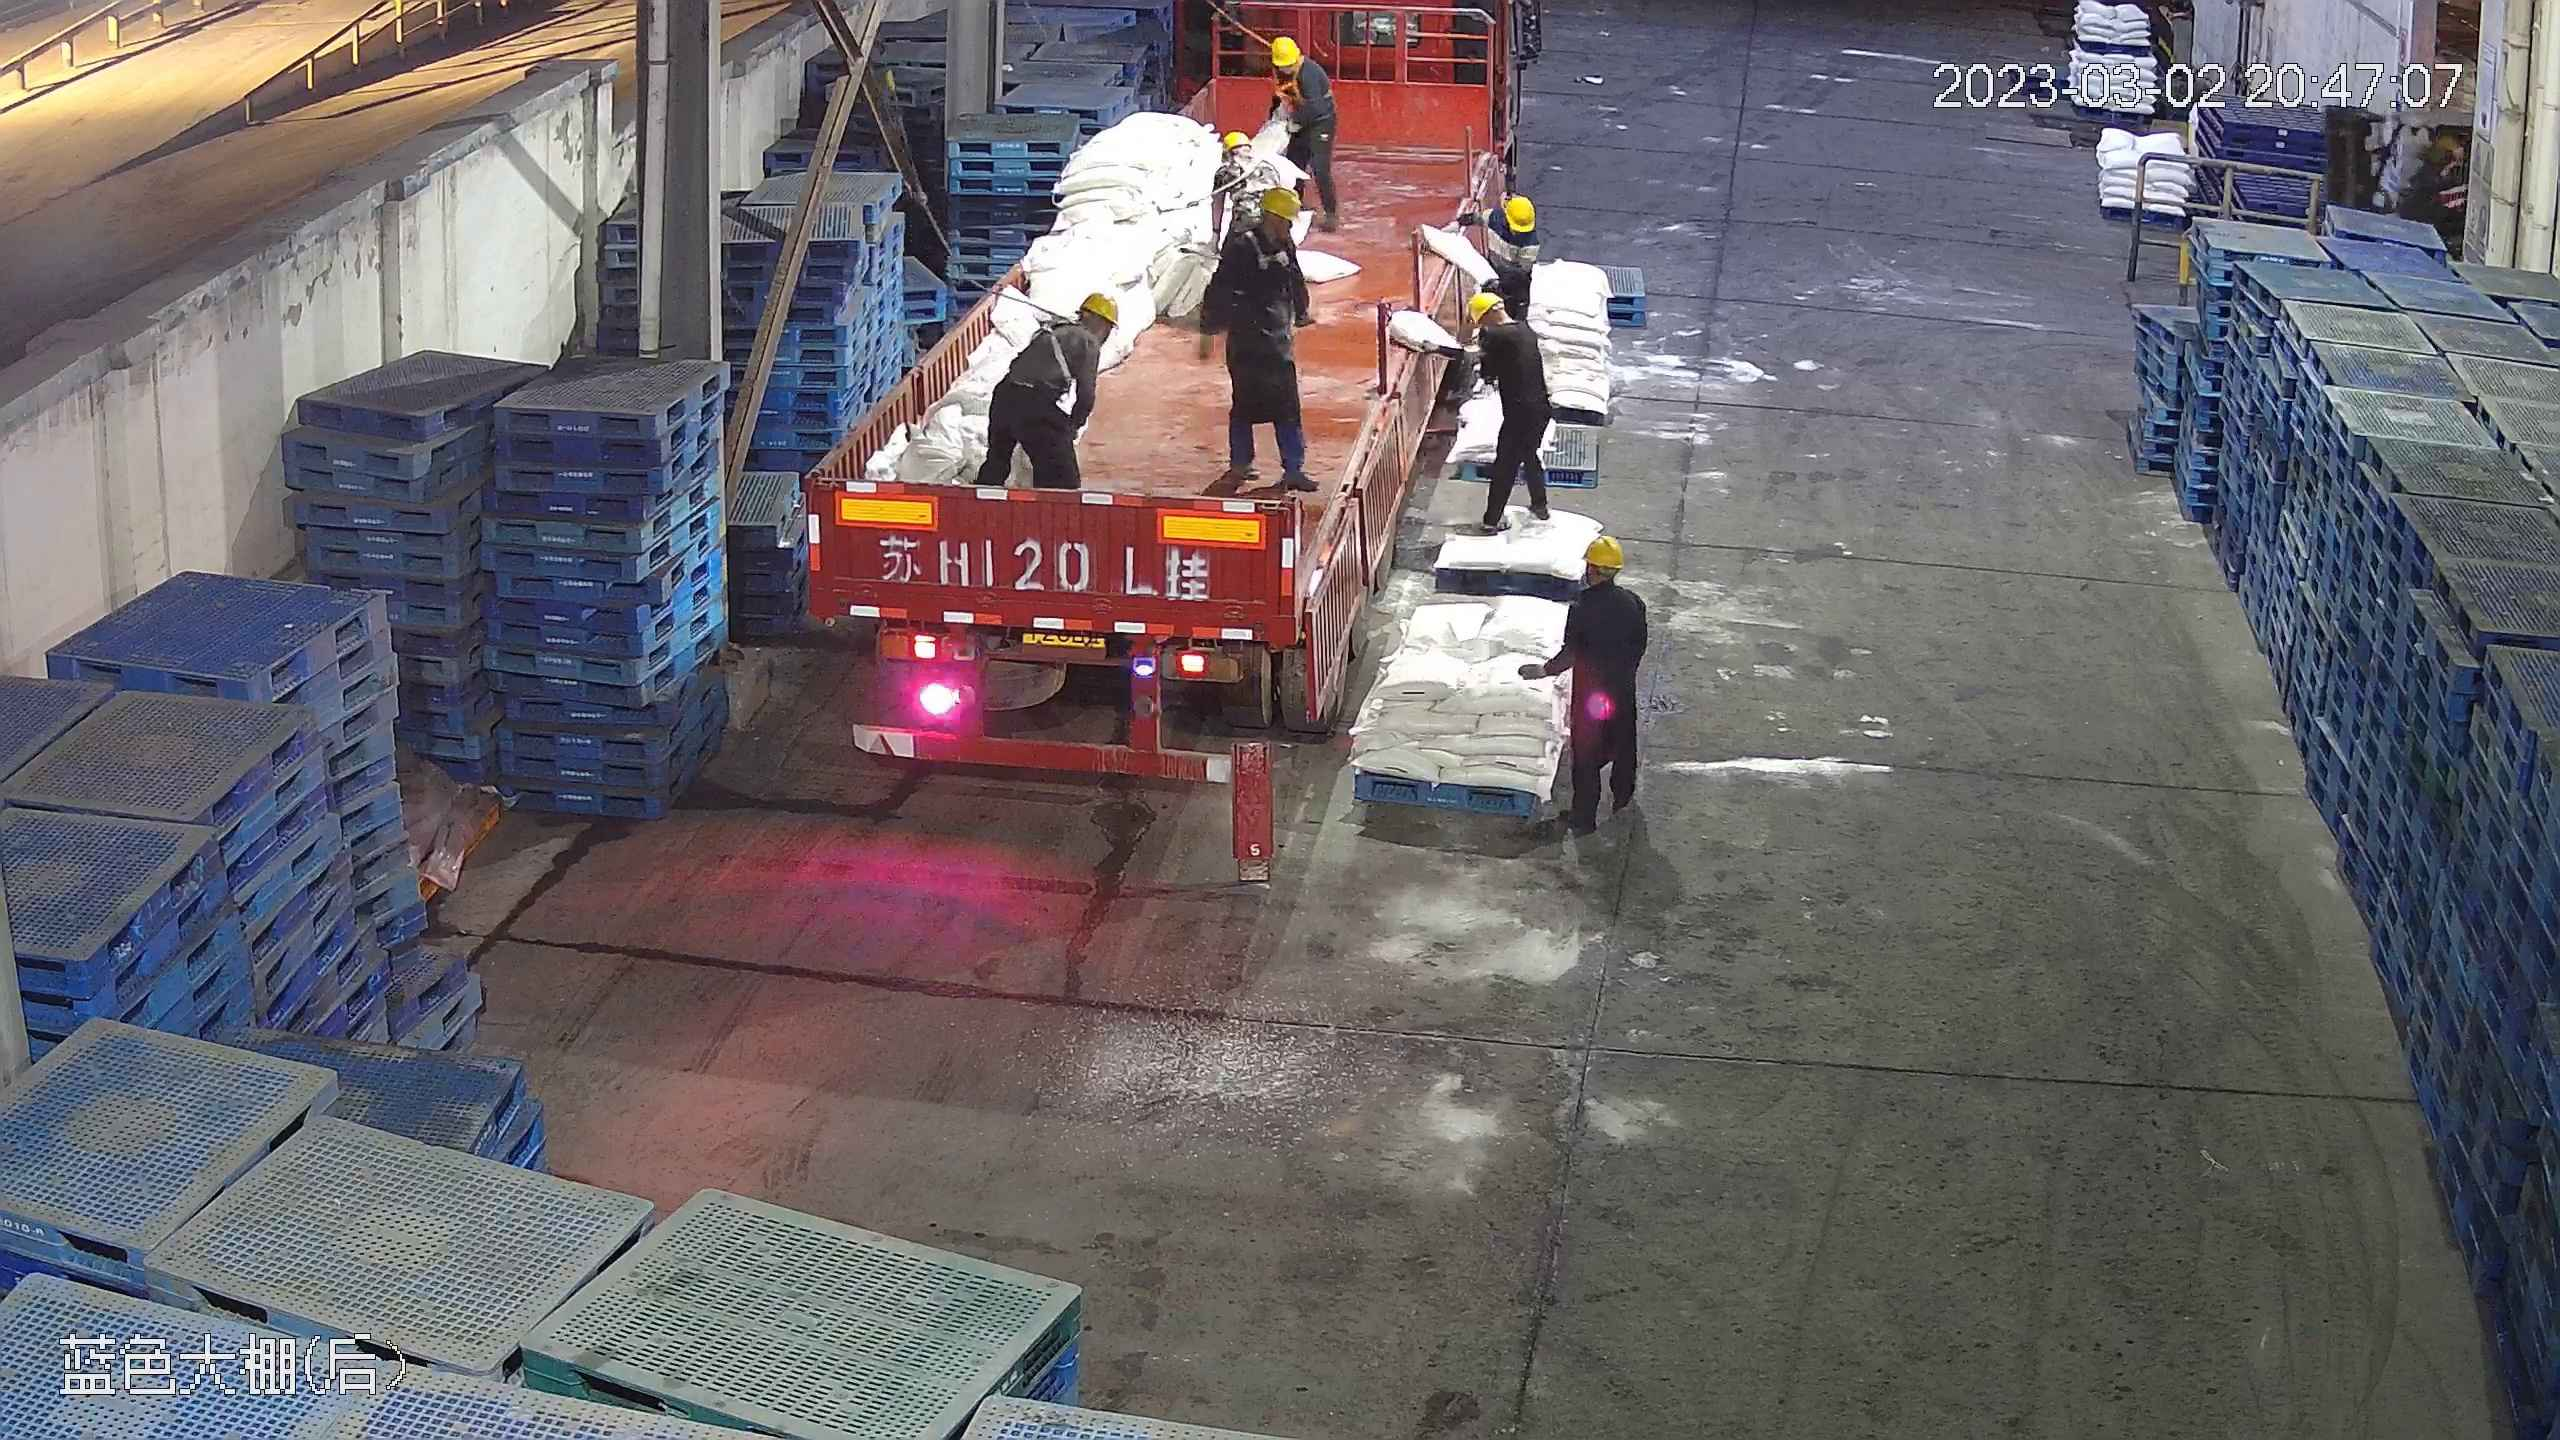belt: (1017, 313, 1089, 382), (1274, 61, 1328, 114), (1220, 152, 1277, 190), (1245, 234, 1294, 271)
head: (1559, 532, 1647, 632), (1215, 184, 1307, 270), (1027, 290, 1121, 368), (1463, 290, 1537, 364), (1464, 192, 1539, 255), (1205, 131, 1288, 187), (1262, 34, 1330, 98)
helmet: (1077, 289, 1122, 330), (1253, 183, 1301, 221), (1577, 533, 1627, 569), (1503, 193, 1536, 235), (1265, 33, 1303, 66), (1461, 289, 1499, 319), (1217, 126, 1252, 156)
people: (1525, 526, 1650, 839), (1196, 180, 1312, 494), (980, 287, 1120, 490), (1443, 285, 1555, 535), (1250, 30, 1340, 229), (1441, 192, 1544, 331)
truck: (815, 21, 1520, 773)
